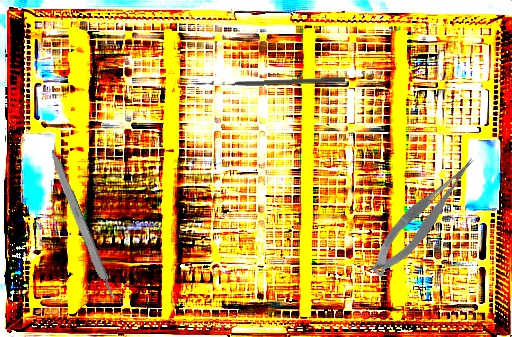Micro Scissor: (359, 153, 490, 281)
Pusher: (210, 75, 346, 88)
Scalpel Handle: (45, 148, 117, 301)
